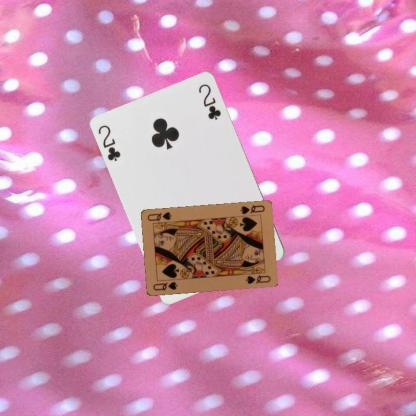2c: (96, 122, 122, 163)
Qs: (237, 202, 266, 216), (150, 279, 179, 292)
